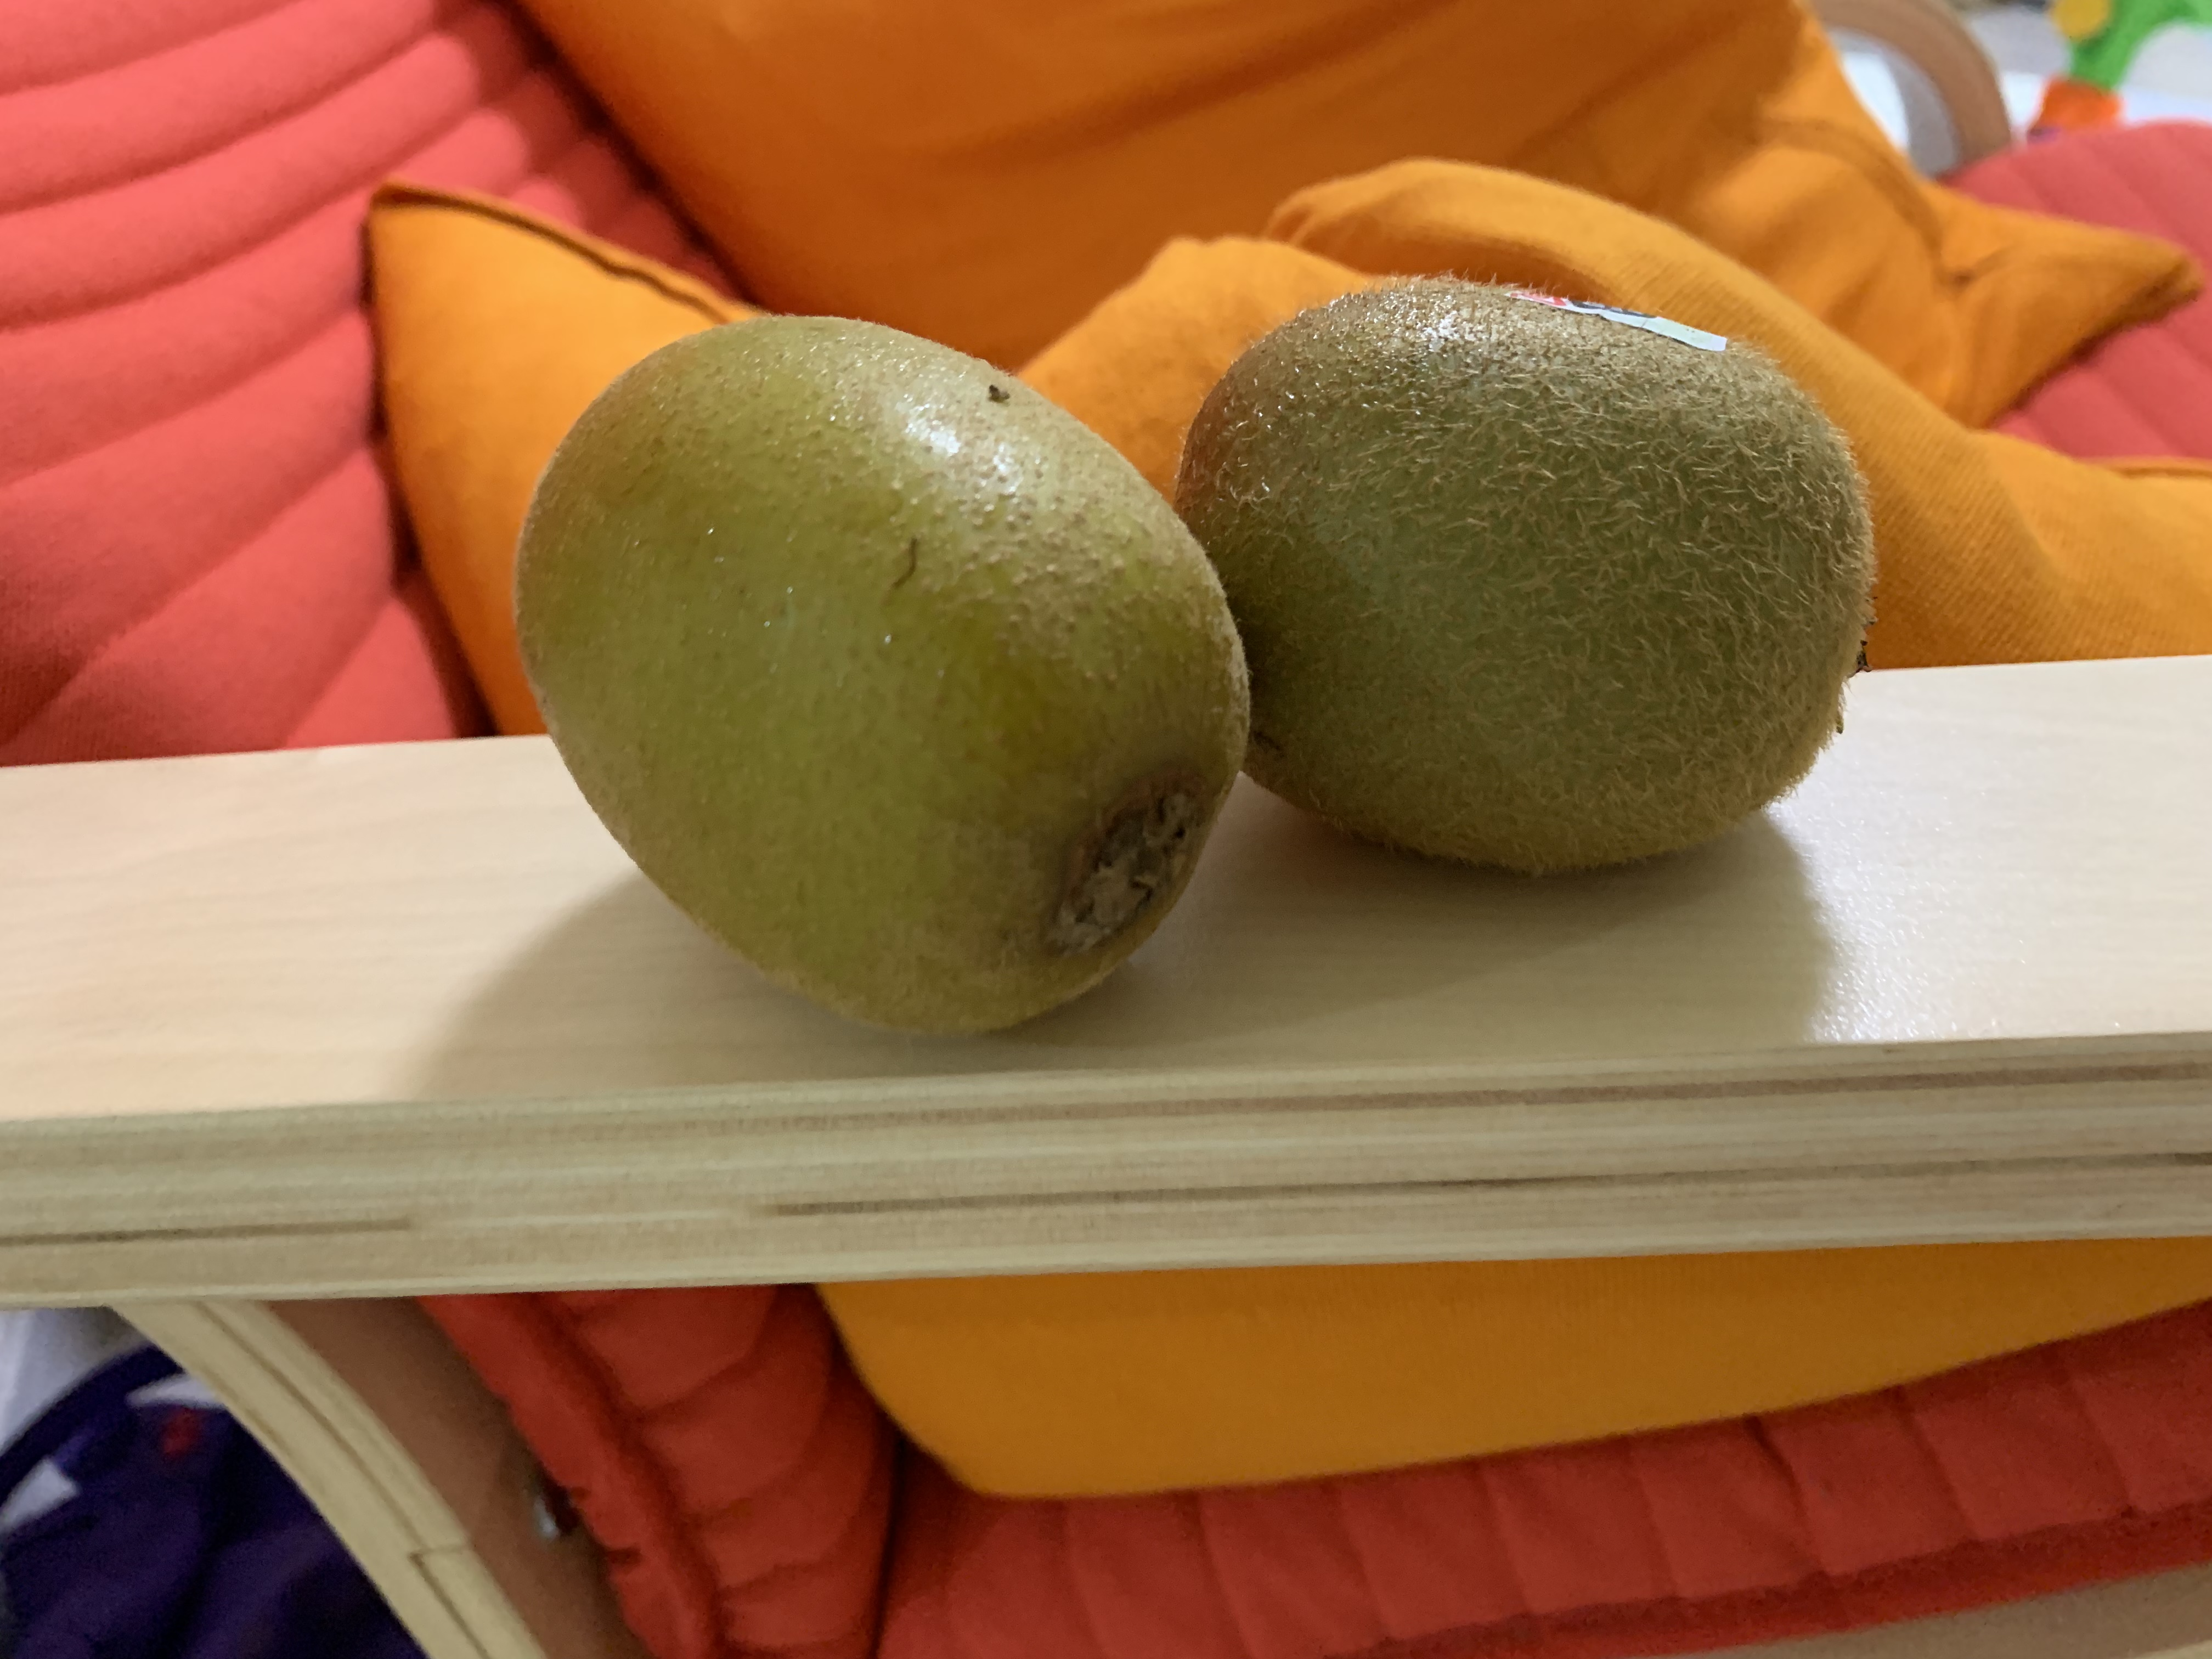kiwi: (516, 310, 1251, 1042), (1167, 279, 1871, 877)
